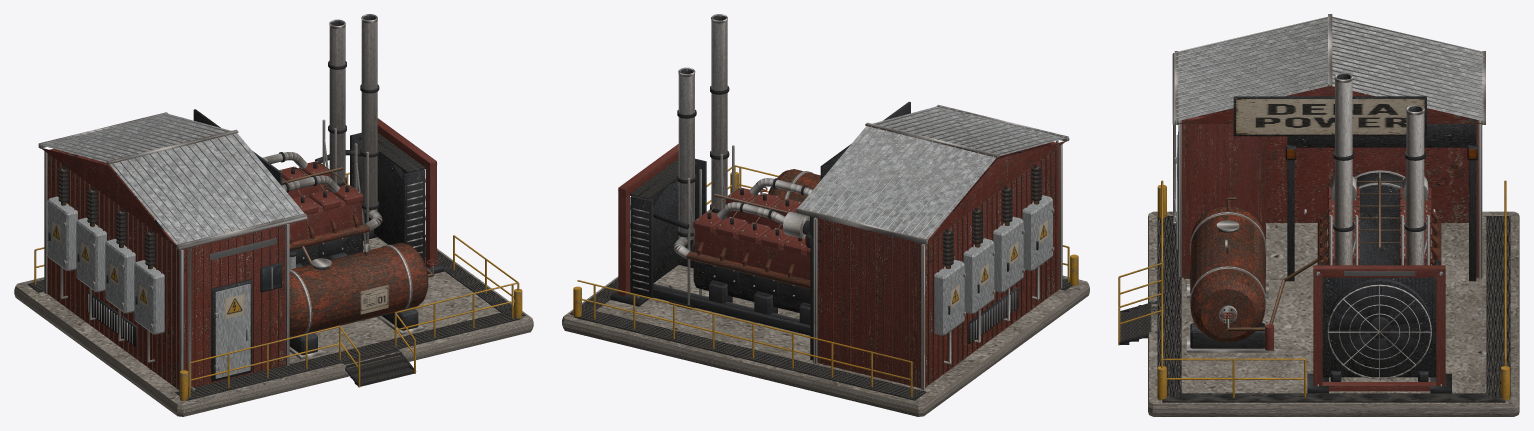
File: PPPower.glb
3 views of the same model, side by side, from view 1: azimuth 30°, elevation 25°; view 2: azimuth 150°, elevation 25°; view 3: azimuth 270°, elevation 25° (orthographic). The views are drawn at different scales.
Parts seen in each view (by area): view 1: BUILDING; view 2: BUILDING; view 3: BUILDING, FAN.
Part boxes in pixels (x1=…): BUILDING: x1=14, y1=14, x2=533, y2=416; BUILDING: x1=562, y1=14, x2=1089, y2=416; BUILDING: x1=1118, y1=14, x2=1519, y2=416; FAN: x1=1333, y1=286, x2=1425, y2=367.
Bounding box in the file's own units: 64 × 46.13 × 56.16.
16 materials, 16 textured.
